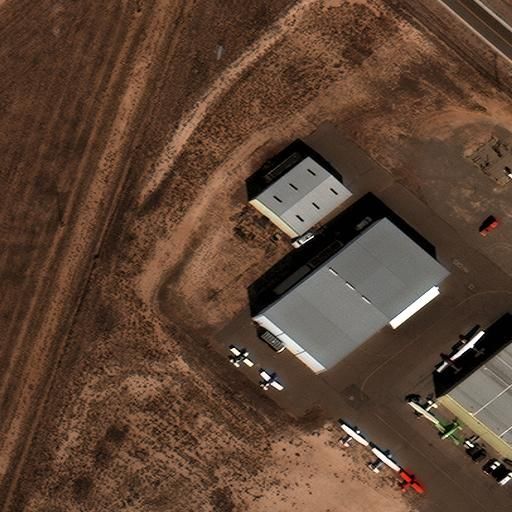Small Civil Transport: (451, 330, 482, 358), (407, 401, 437, 425), (371, 447, 400, 469), (434, 424, 459, 446), (342, 423, 368, 444), (400, 471, 424, 491), (262, 369, 284, 389), (437, 353, 459, 372), (232, 347, 254, 365)
